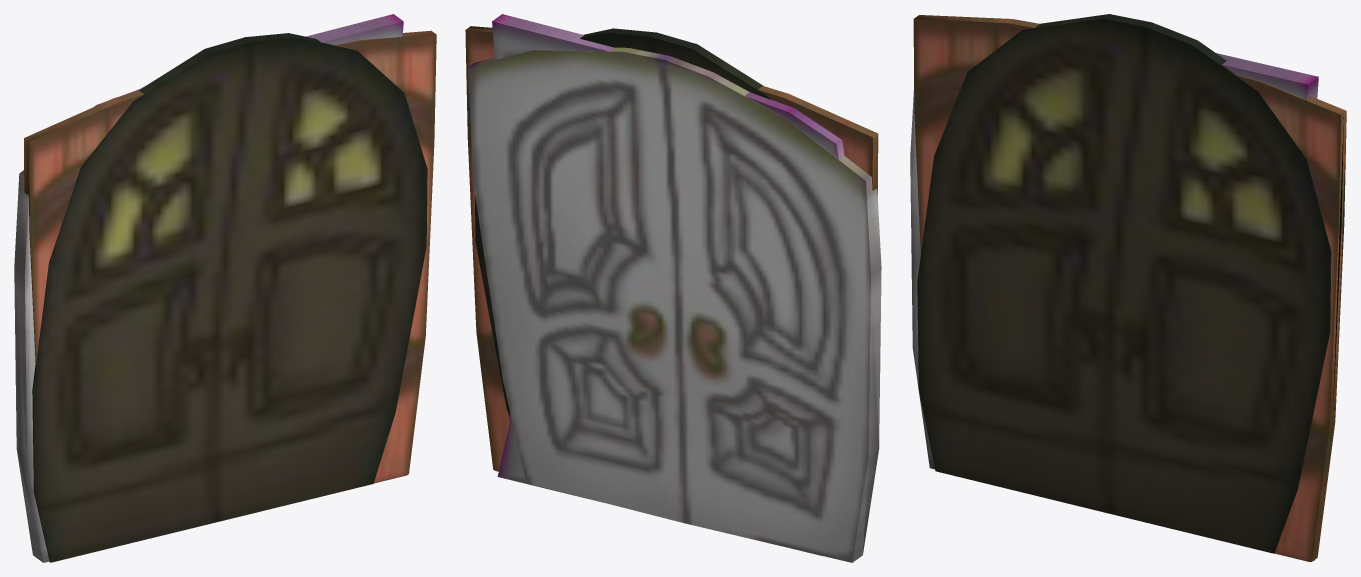
Rendered from doors.glb.
3 views of the same model, side by side, from view 1: azimuth 30°, elevation 25°; view 2: azimuth 150°, elevation 25°; view 3: azimuth 330°, elevation 25° (orthographic). The views are drawn at different scales.
Visible parts, largest first — view 1: leftDoor (×3), rightDoor (×3); view 2: rightDoor (×4), leftDoor (×4); view 3: rightDoor (×3), leftDoor (×3).
Boxes of the visible parts, x1,y1,x2,y2 form: leftDoor (×3): (14, 37, 251, 562); rightDoor (×3): (214, 14, 436, 521); rightDoor (×4): (465, 14, 685, 523); leftDoor (×4): (651, 32, 881, 562); rightDoor (×3): (1107, 22, 1346, 561); leftDoor (×3): (910, 14, 1151, 514).
Bounding box in the file's own units: 7.5 × 8.24 × 0.3596.
4 materials, 3 textured.
